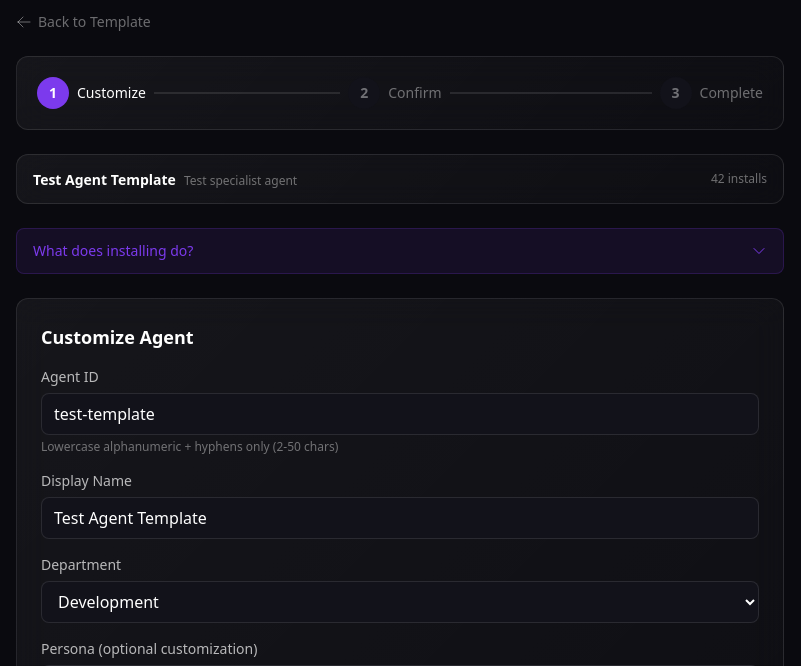
Test case: MarketplaceInstall › agent ID validation › shows validation error message in the template when ID is invalid
Step 1. Replace the text in the field with id "agentId" with "BAD_ID" → (400, 414), box [41,393,759,435]
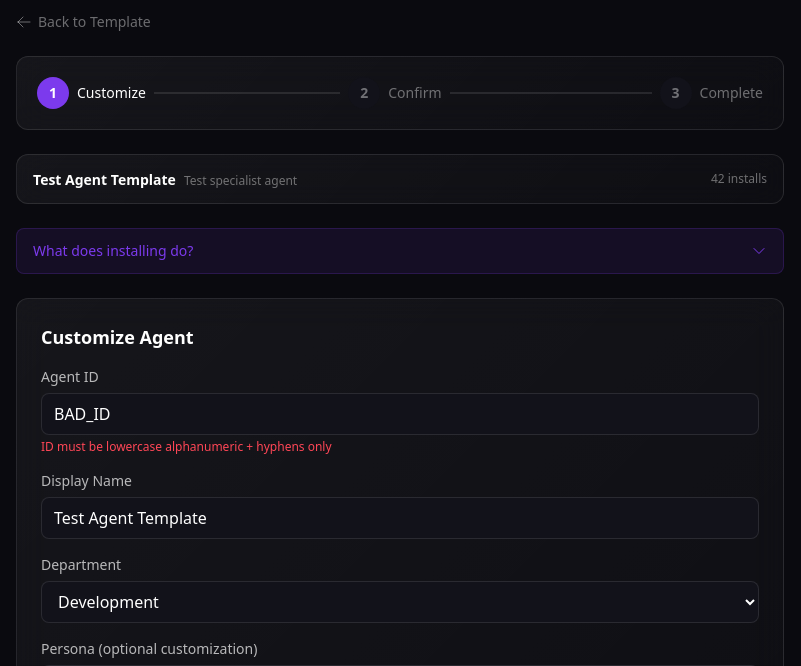
Expected: the text "ID must be lowercase alphanumeric + hyphens only" is shown, [41,438,332,455]
